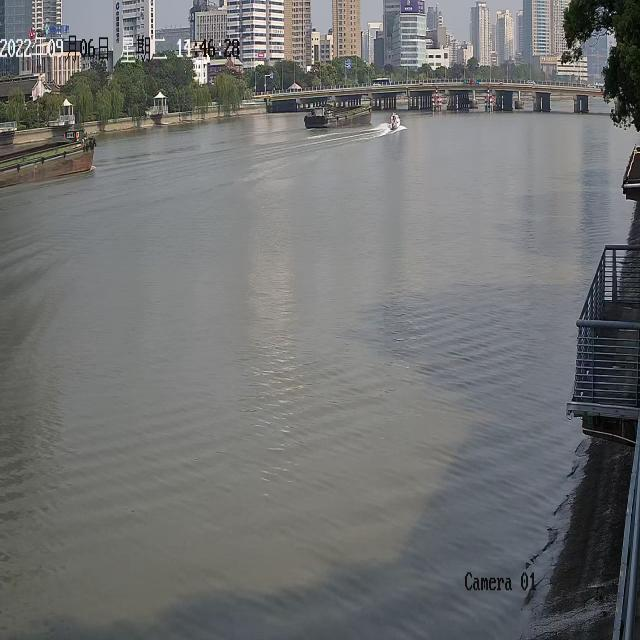ship: (0, 128, 96, 186), (304, 104, 372, 128), (389, 111, 401, 129)
